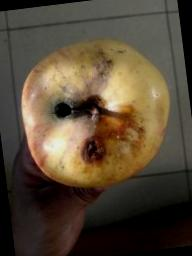Apple Rotten: (2, 19, 186, 213)
